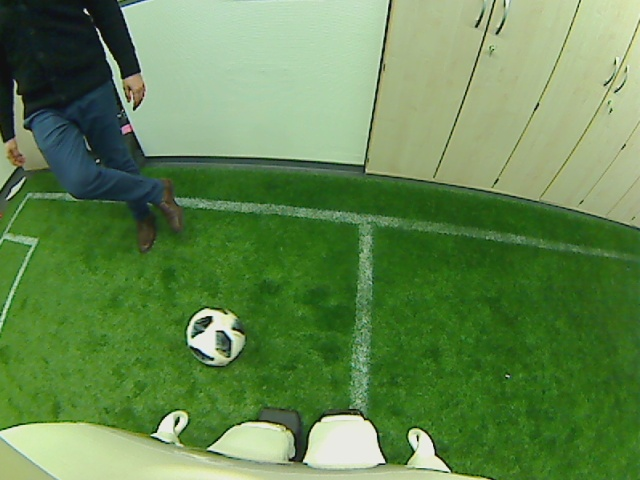ball: (185, 305, 245, 369)
